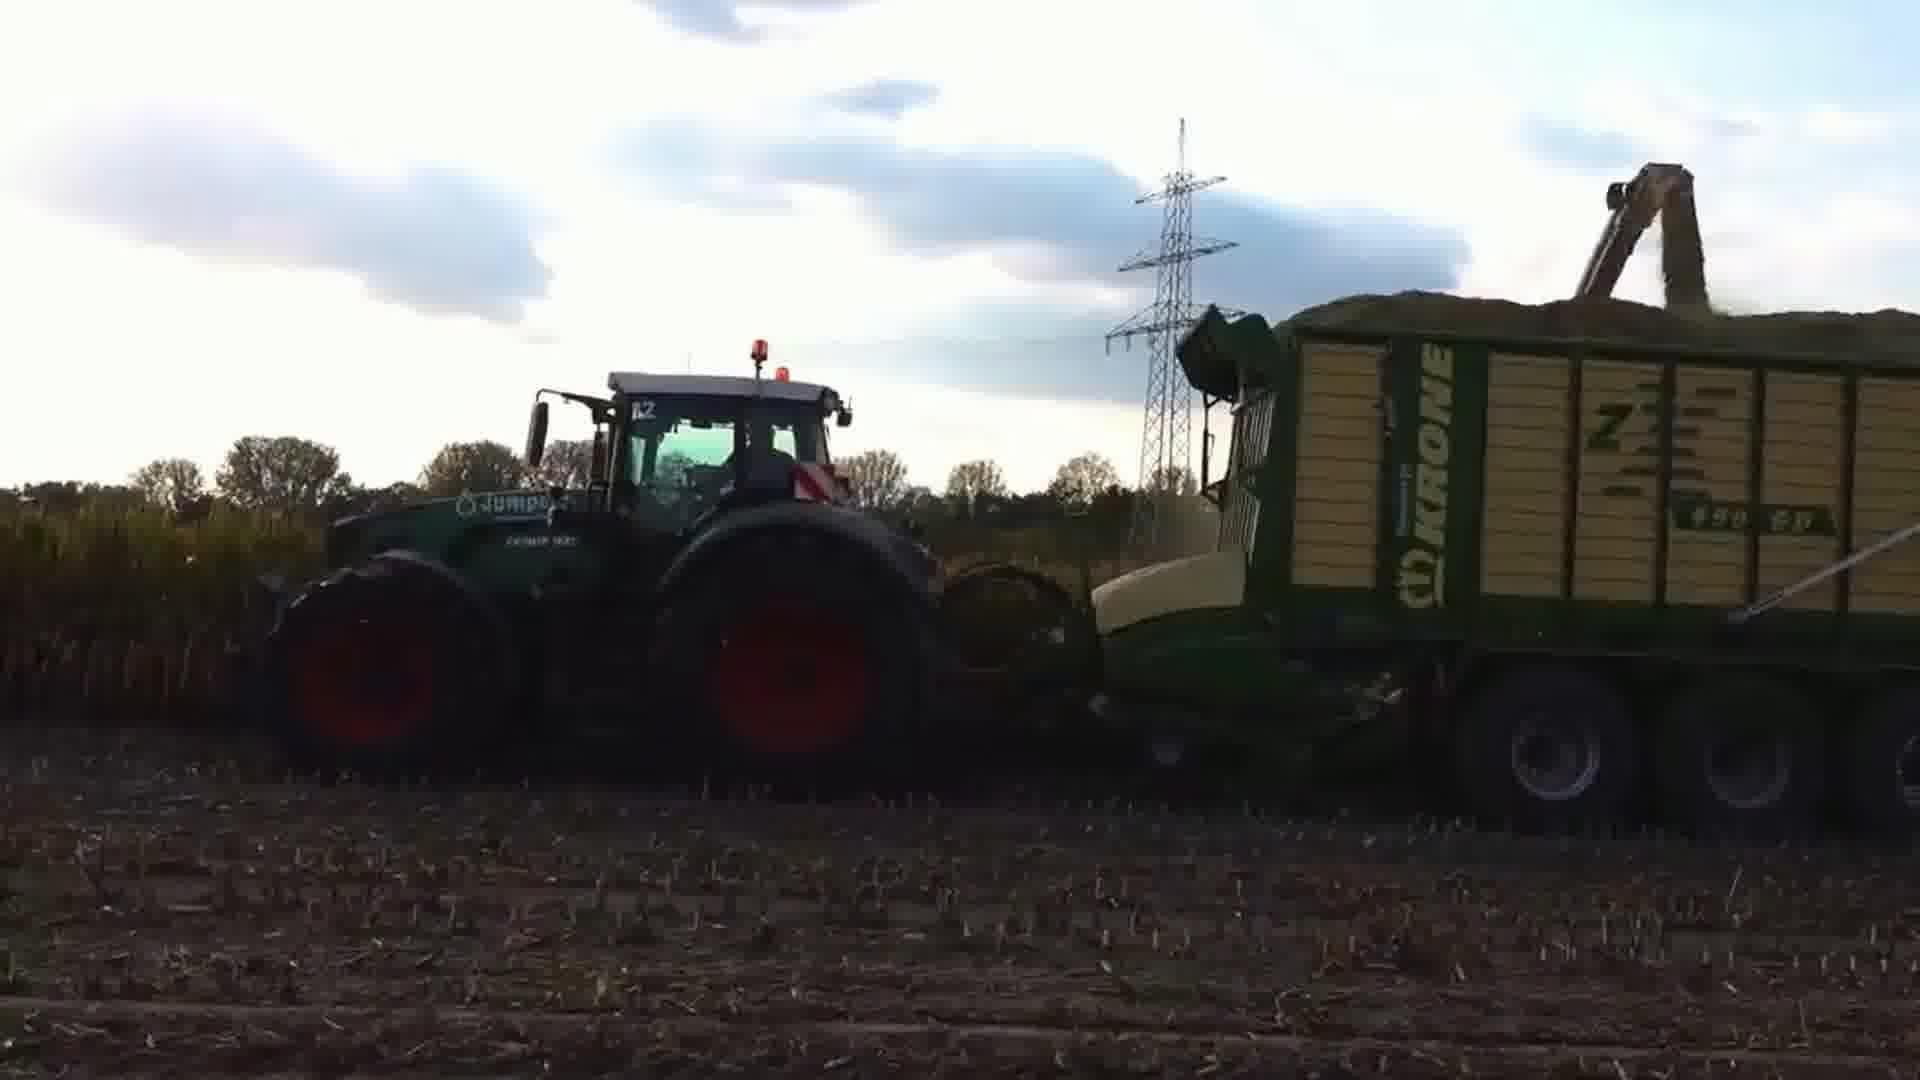tractor: (221, 304, 969, 820)
trailer: (1014, 277, 1920, 863)
